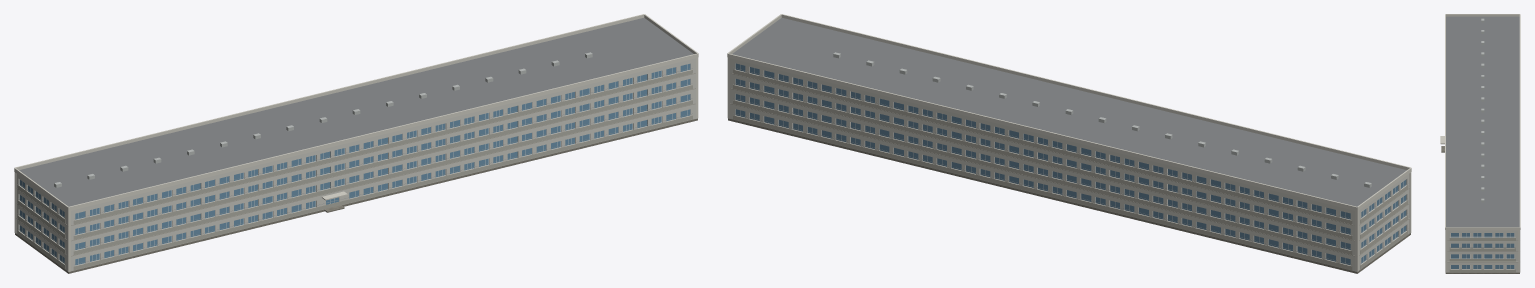
3 views of the same model, side by side, from view 1: azimuth 30°, elevation 25°; view 2: azimuth 150°, elevation 25°; view 3: azimuth 270°, elevation 25° (orthographic). The views are drawn at different scales.
Visible parts, largest first — view 1: high__roof, high__cream, high__band, high__glass, high__cap, high__frame, high__steel, high__stone, high__sideglass, high__unit; view 2: high__roof, high__cream, high__band, high__sideglass, high__cap, high__frame, high__steel, high__stone, high__unit; view 3: high__roof, high__cream, high__cap, high__band, high__sideglass, high__frame, high__unit, high__stone, high__steel.
Part boxes in pixels (x1,y1,x2,y2): high__roof: (19,18,693,206); high__cream: (16,58,695,271); high__band: (16,69,695,270); high__glass: (75,64,690,265); high__cap: (14,14,698,271); high__frame: (20,64,690,265); high__steel: (18,68,692,264); high__stone: (15,118,697,273); high__sideglass: (19,179,64,263); high__unit: (54,52,592,187); high__roof: (732,18,1406,206); high__cream: (730,58,1409,271); high__band: (730,69,1409,270); high__sideglass: (735,63,1406,264); high__cap: (727,14,1411,271); high__frame: (735,63,1405,265); high__steel: (733,67,1407,264); high__stone: (728,118,1410,273); high__unit: (833,52,1371,187); high__roof: (1446,16,1519,227); high__cream: (1447,230,1518,272); high__cap: (1440,14,1520,272); high__band: (1447,237,1517,272); high__sideglass: (1451,233,1514,268); high__frame: (1450,233,1514,269); high__unit: (1481,18,1484,202); high__stone: (1445,272,1519,273); high__steel: (1450,236,1515,247).
Bounding box in the file's own units: 156 × 15.86 × 24.7.
Materials: 10 (3 with a texture image).
